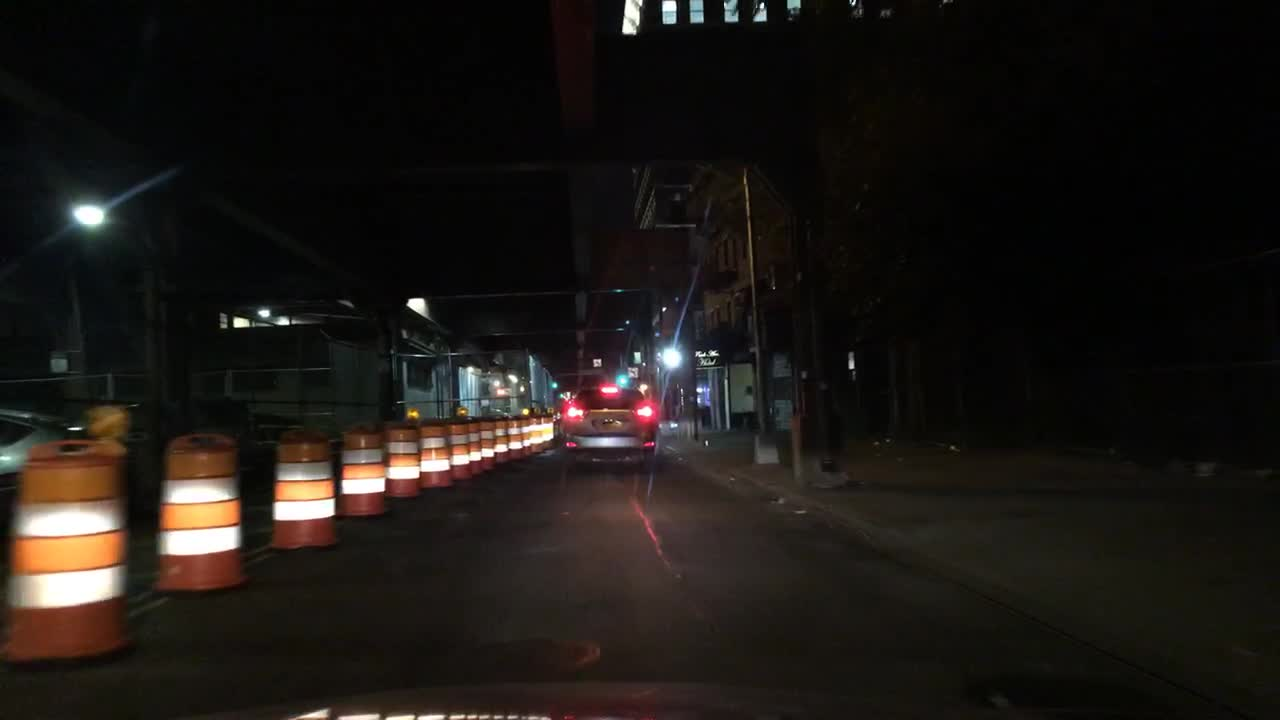car: (556, 376, 661, 470), (0, 404, 91, 490)
traffic light: (44, 350, 82, 376), (614, 373, 631, 386), (549, 380, 558, 390)
traffic sign: (770, 350, 793, 378), (625, 366, 639, 378)
